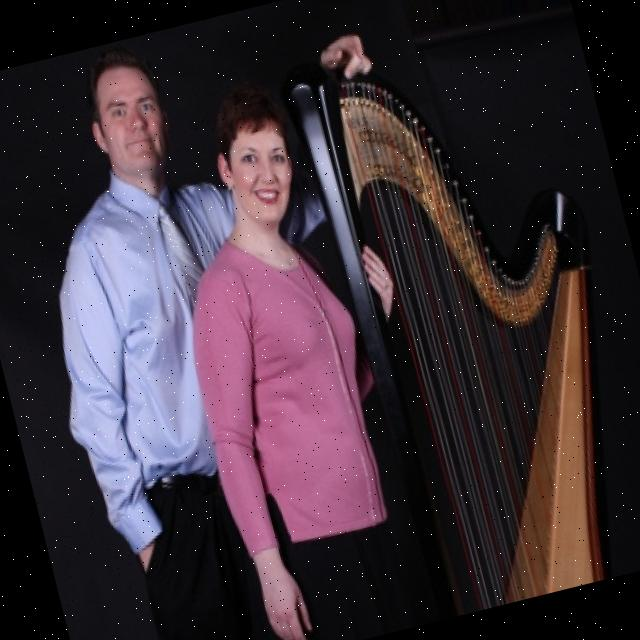harp: (271, 10, 640, 627)
